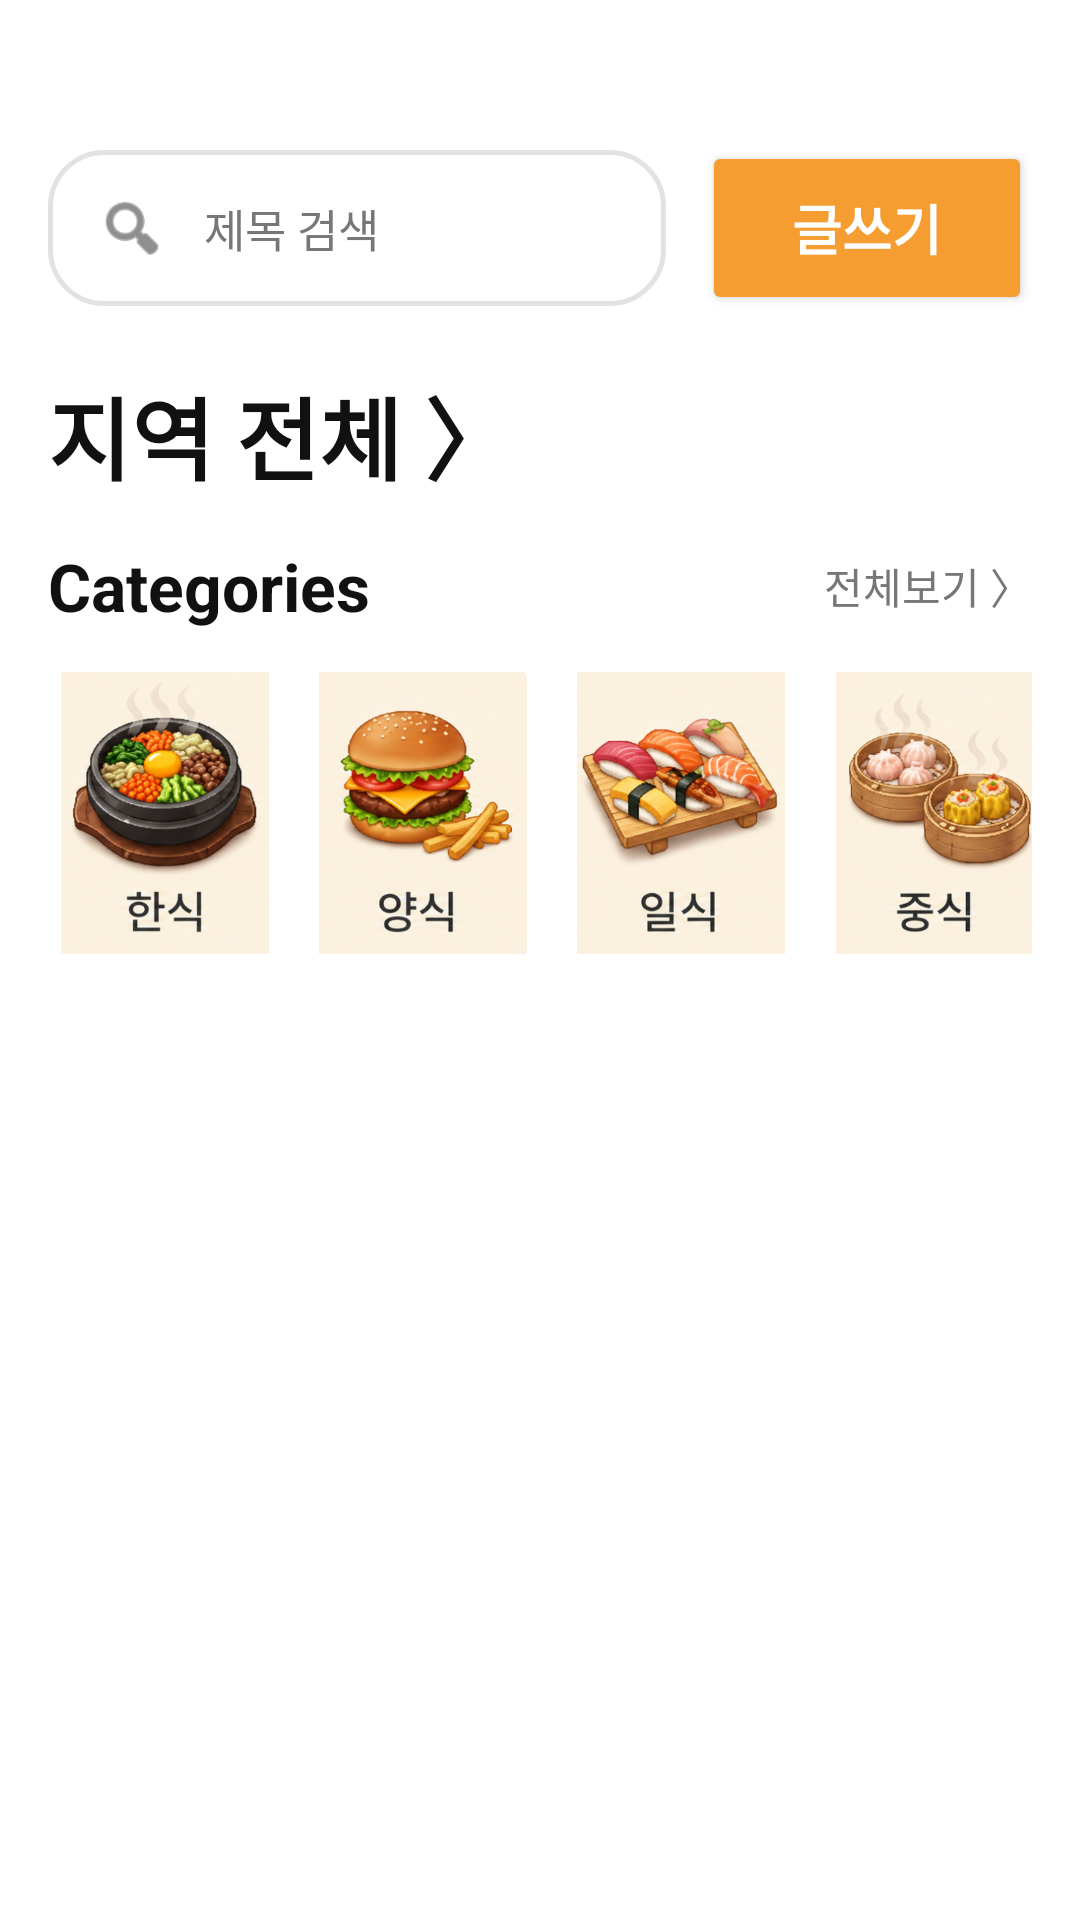

Icon click points for this 1080w x 1920h phone screenshot, format [x,y]:
search: [132,228]
